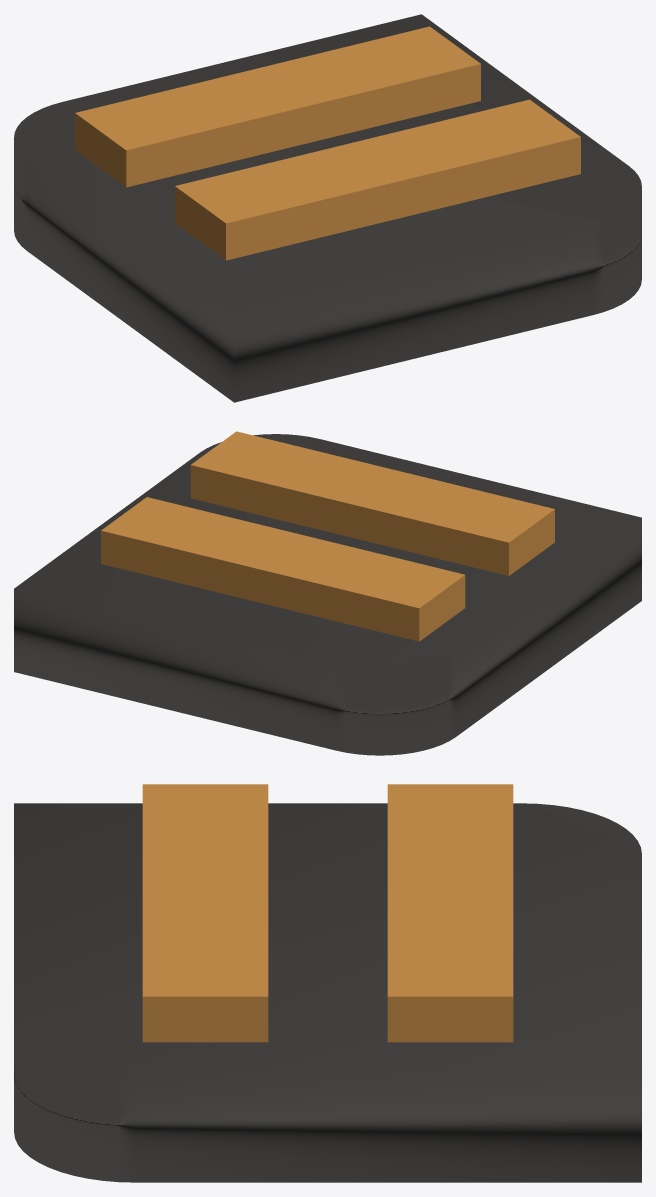
The model's file is pauseButton2.fbx.
3 views of the same model, one above another, from view 1: azimuth 30°, elevation 25°; view 2: azimuth 150°, elevation 25°; view 3: azimuth 270°, elevation 25° (orthographic). The views are drawn at different scales.
Parts seen in each view (by area): view 1: pCube1, pasted__pCube4, pasted__pCube3; view 2: pCube1, pasted__pCube4, pasted__pCube3; view 3: pCube1, pasted__pCube3, pasted__pCube4.
Part boxes in pixels (x1,y1,x2,y2): pCube1: (14,14,641,402); pasted__pCube4: (175,99,580,260); pasted__pCube3: (75,26,480,187); pCube1: (14,434,641,755); pasted__pCube4: (190,431,554,575); pasted__pCube3: (101,497,465,641); pCube1: (14,803,641,1182); pasted__pCube3: (387,784,513,1042); pasted__pCube4: (142,784,268,1042).
Size of the model in its own units: 1 by 0.2799 by 1.
